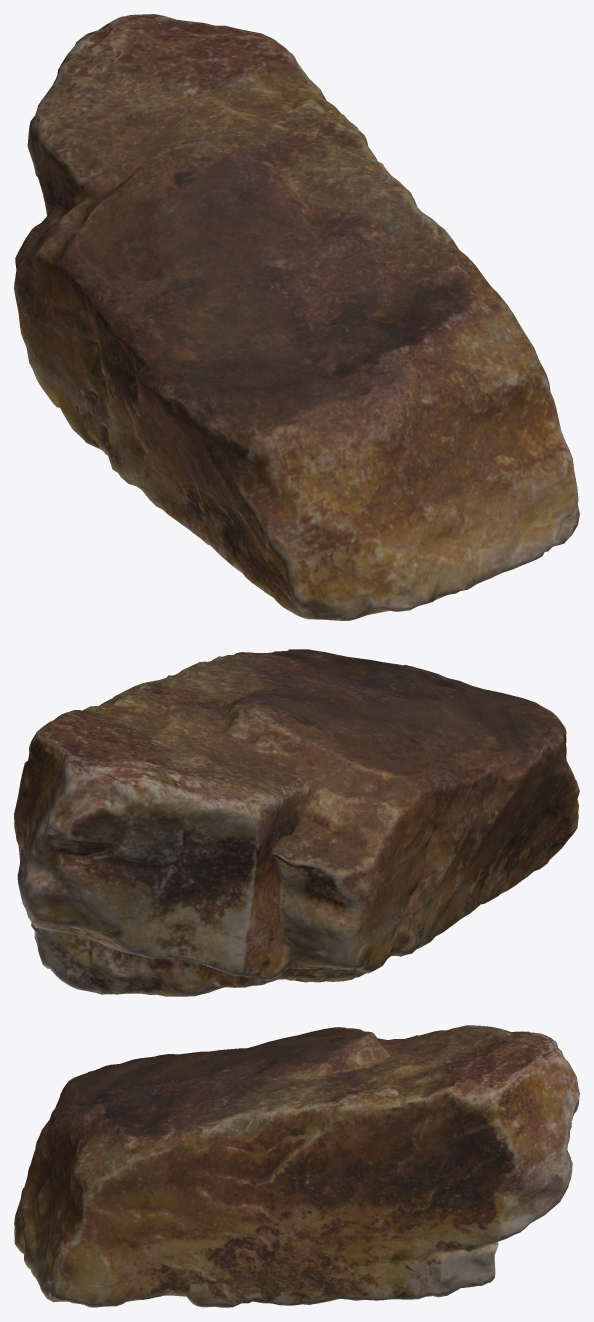
File: rock_07_4k.fbx
The picture shows the model from 3 angles, top to bottom: view 1: azimuth 30°, elevation 25°; view 2: azimuth 150°, elevation 25°; view 3: azimuth 270°, elevation 25°; orthographic projection. The views are drawn at different scales.
Visible parts, largest first — view 1: rock_07_LOD0; view 2: rock_07_LOD0; view 3: rock_07_LOD0.
Boxes of the visible parts, x1,y1,x2,y2 form: rock_07_LOD0: [14, 14, 579, 620]; rock_07_LOD0: [14, 649, 579, 996]; rock_07_LOD0: [14, 1025, 579, 1307].
Size of what is drawn, in the model's own units: 16.89 by 14.37 by 32.03.
1 material, 1 textured.
